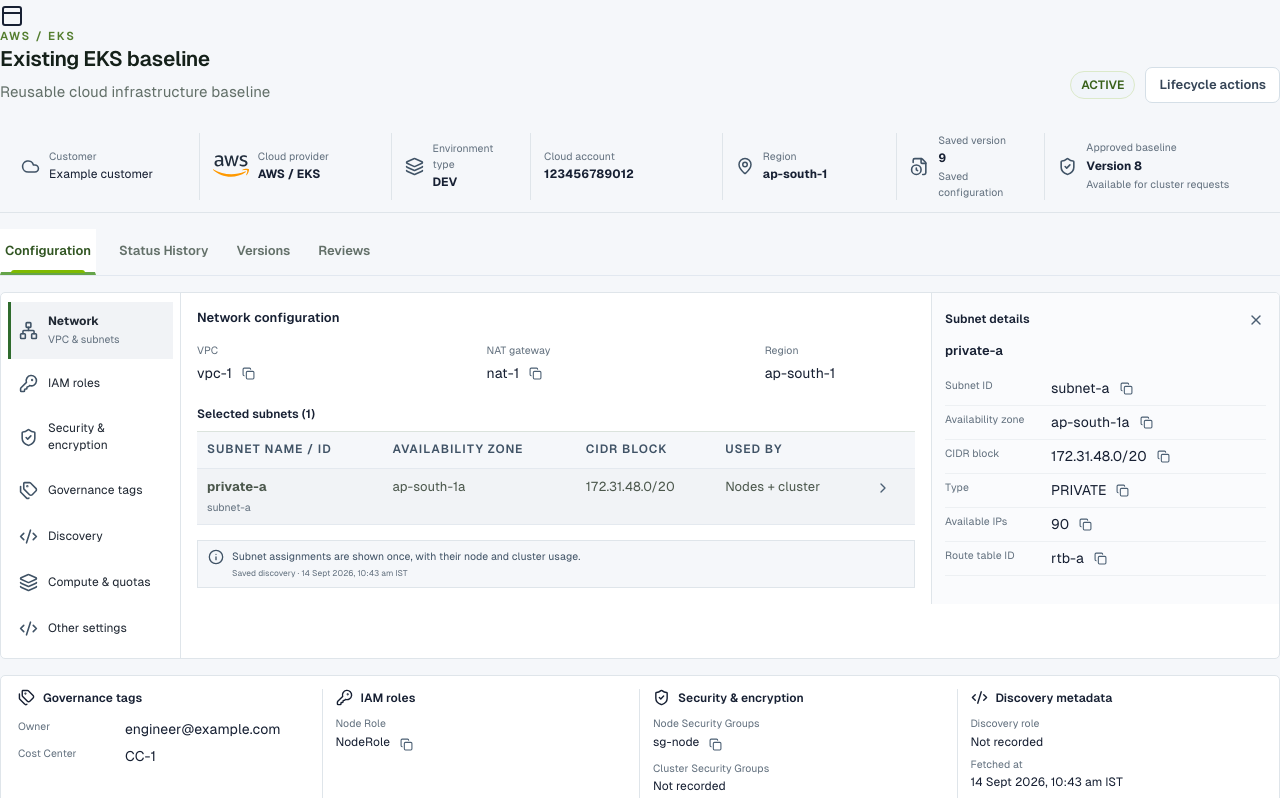
Test case: Existing environment explorer › offers historical versions as structured read-only snapshots
Expected: the heading "Network configuration" is shown, [197,310,340,325]
What coordinates should you click on to do the following:
click the button "Versions"
I would click on:
 (263, 252)
Its box is [231,229,295,275].
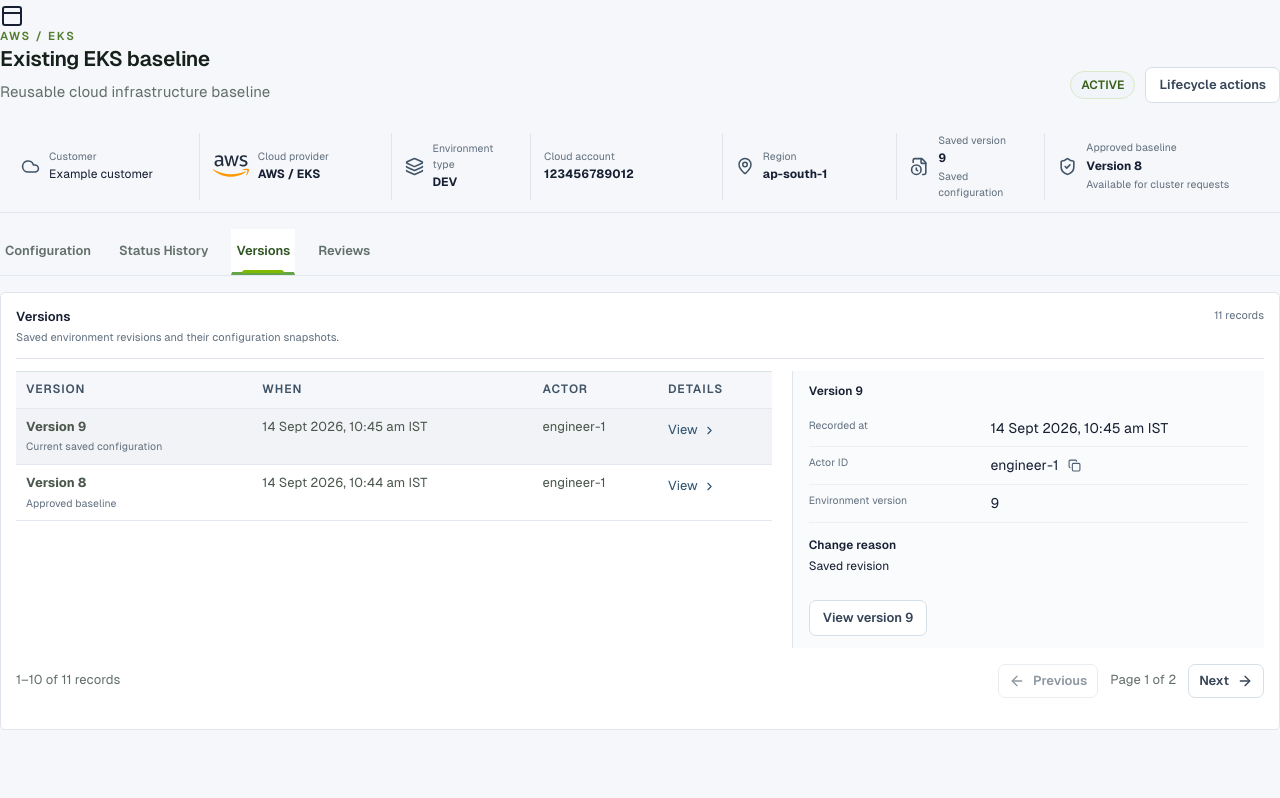
Expected: the text "Approved baseline" below "14 Sept 2026, 10:44 am IST" is shown, [26,496,116,508]
Expected: the text "Current saved configuration" is shown, [26,440,162,452]
What coordinates should you click on to do the following:
click the button with aria-label "View Version 8 record 2"
I would click on:
 (692, 486)
Its box is [668,474,716,498].
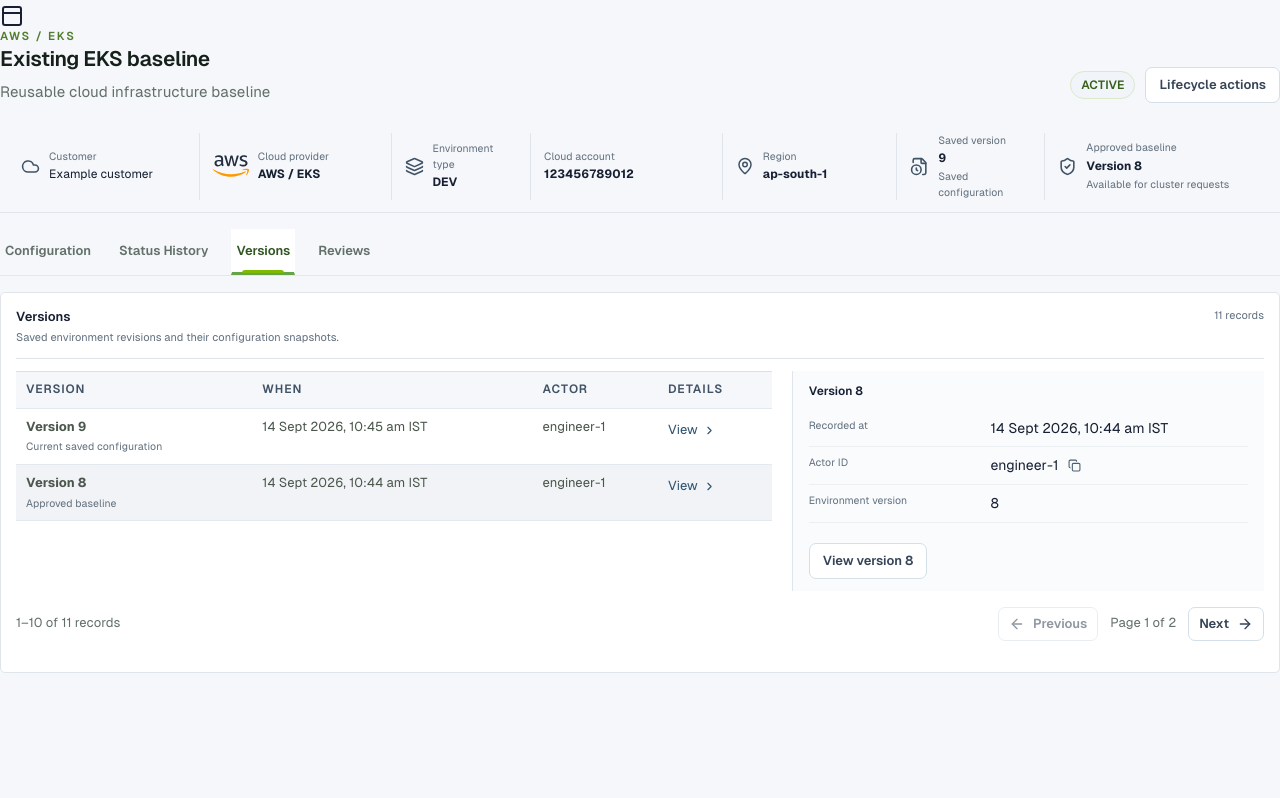
What coordinates should you click on to do the following:
click the button "View version 8"
I would click on:
 (868, 561)
Its box is [809,543,927,579].
(page scrolled)
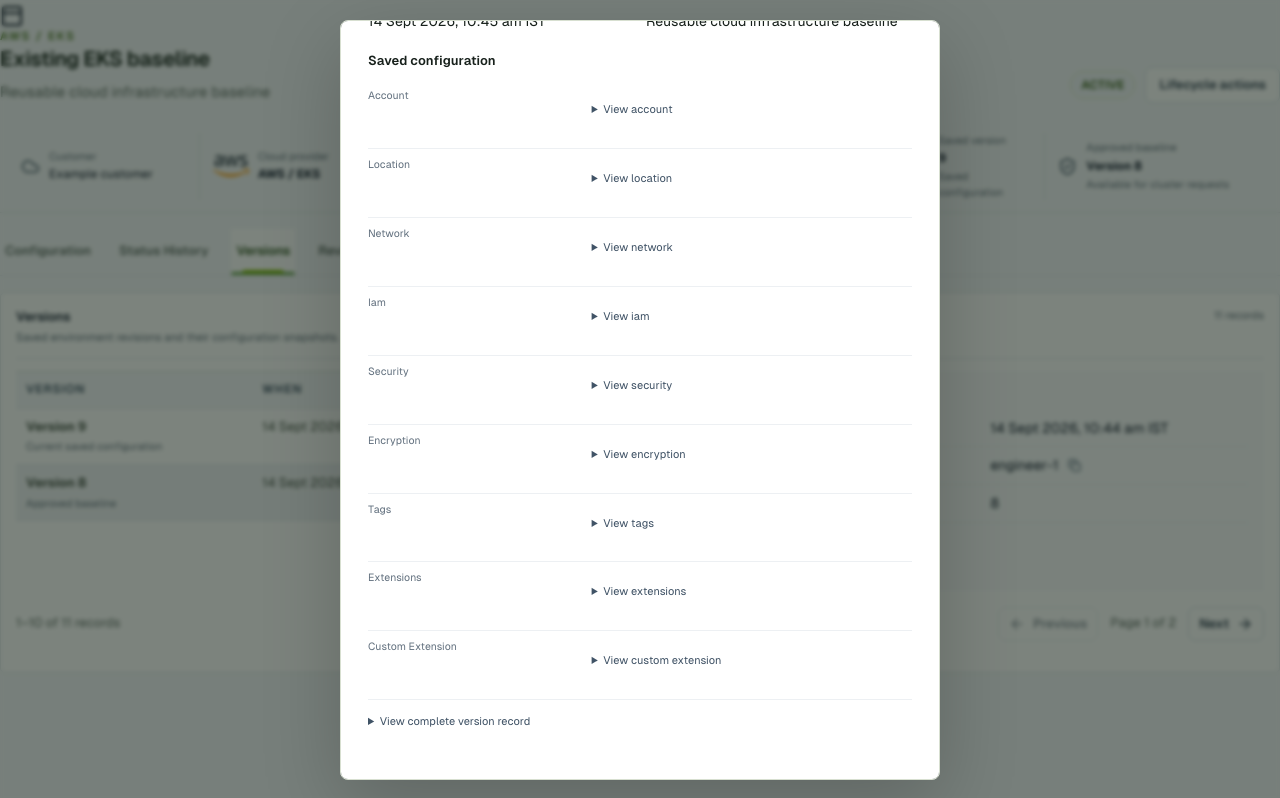
Expected: the heading "Saved configuration" is shown, [368,53,496,68]
Expected: the heading "View complete version record" is shown, [380,715,530,727]
